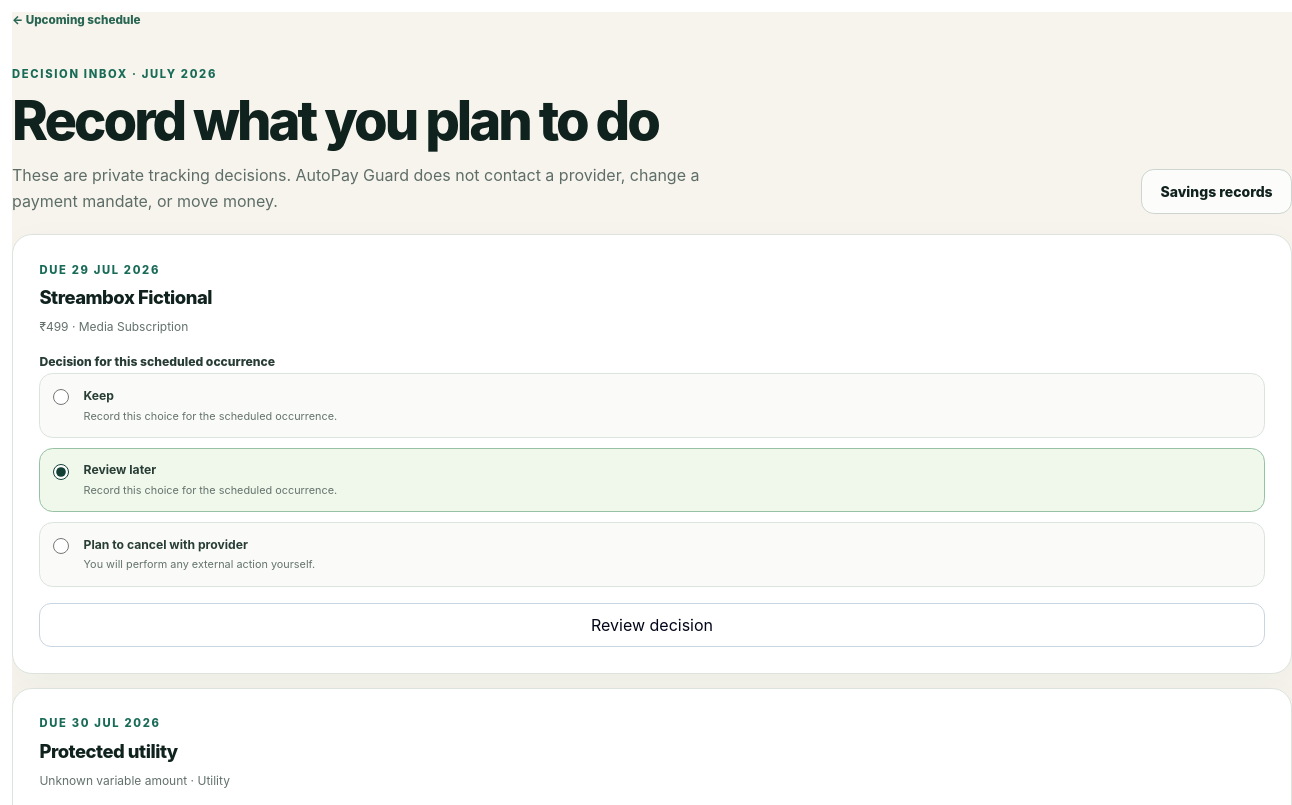
Scenario: DecisionInboxScreen › requires explicit confirmation and appends only the selected decision
expect the element "Streambox Fictional" is shown: met, box [12,234,1291,674]
Click the radio button labelled "Plan to cancel with provider" at (61, 546), box [53,538,69,554]
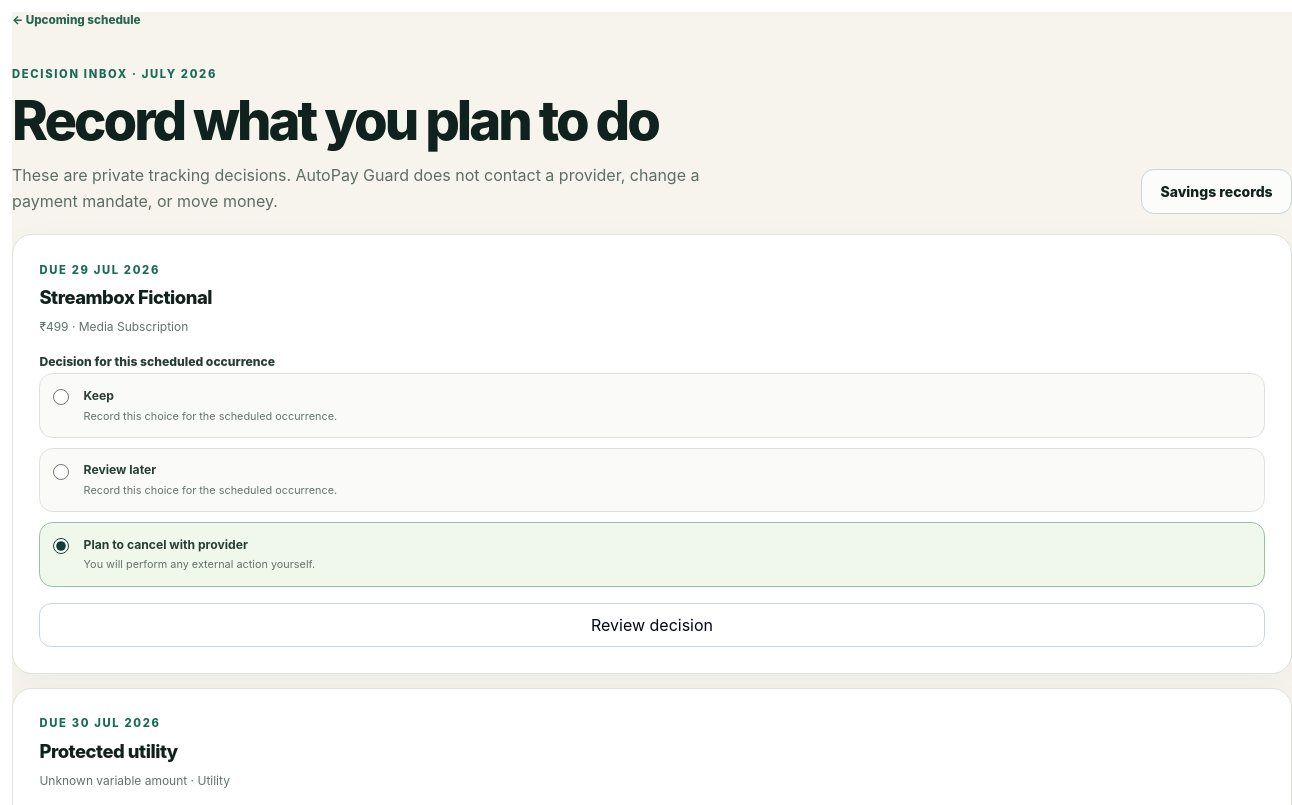
Click the button "Review decision" at (652, 625), box [39,603,1265,647]
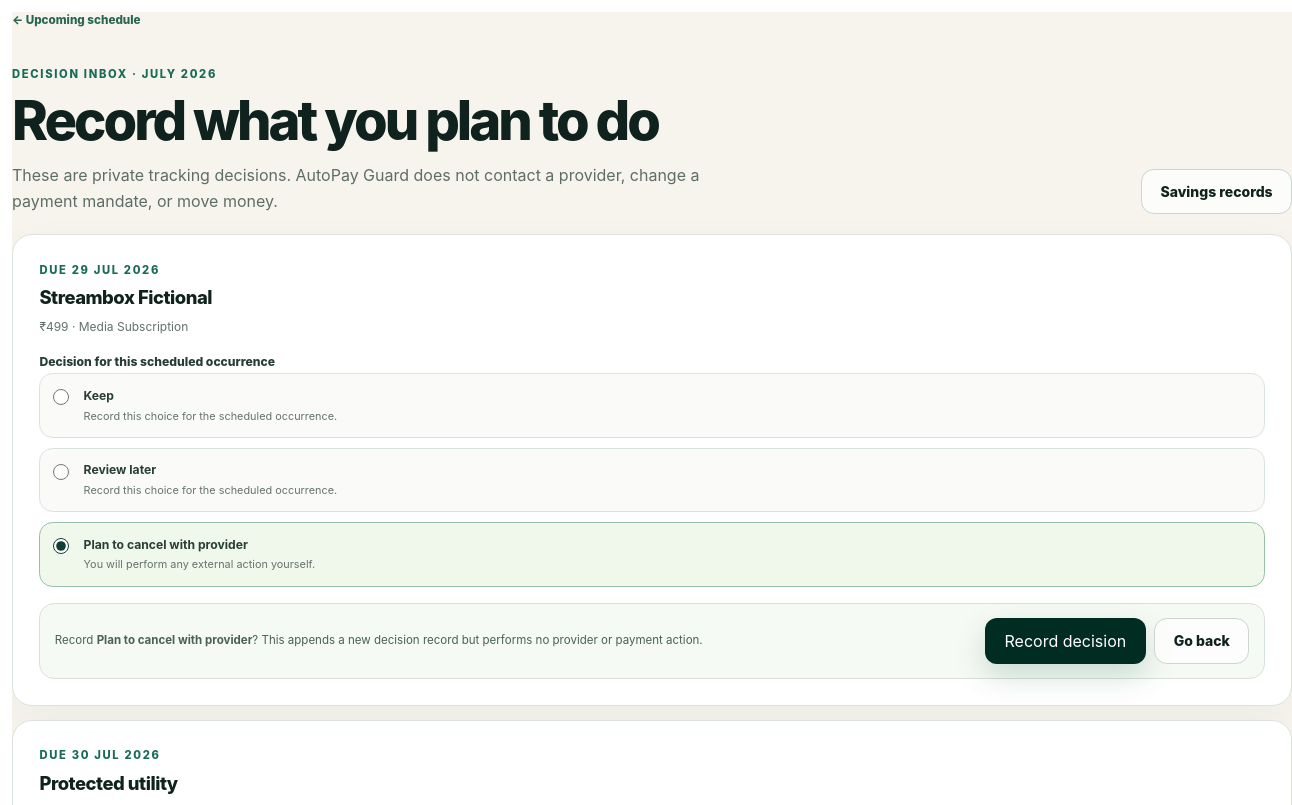
expect the text "This appends a new decision record" is shown: met, box [252,633,703,647]
Click the button "Record decision" at (1065, 641), box [984,618,1146,664]
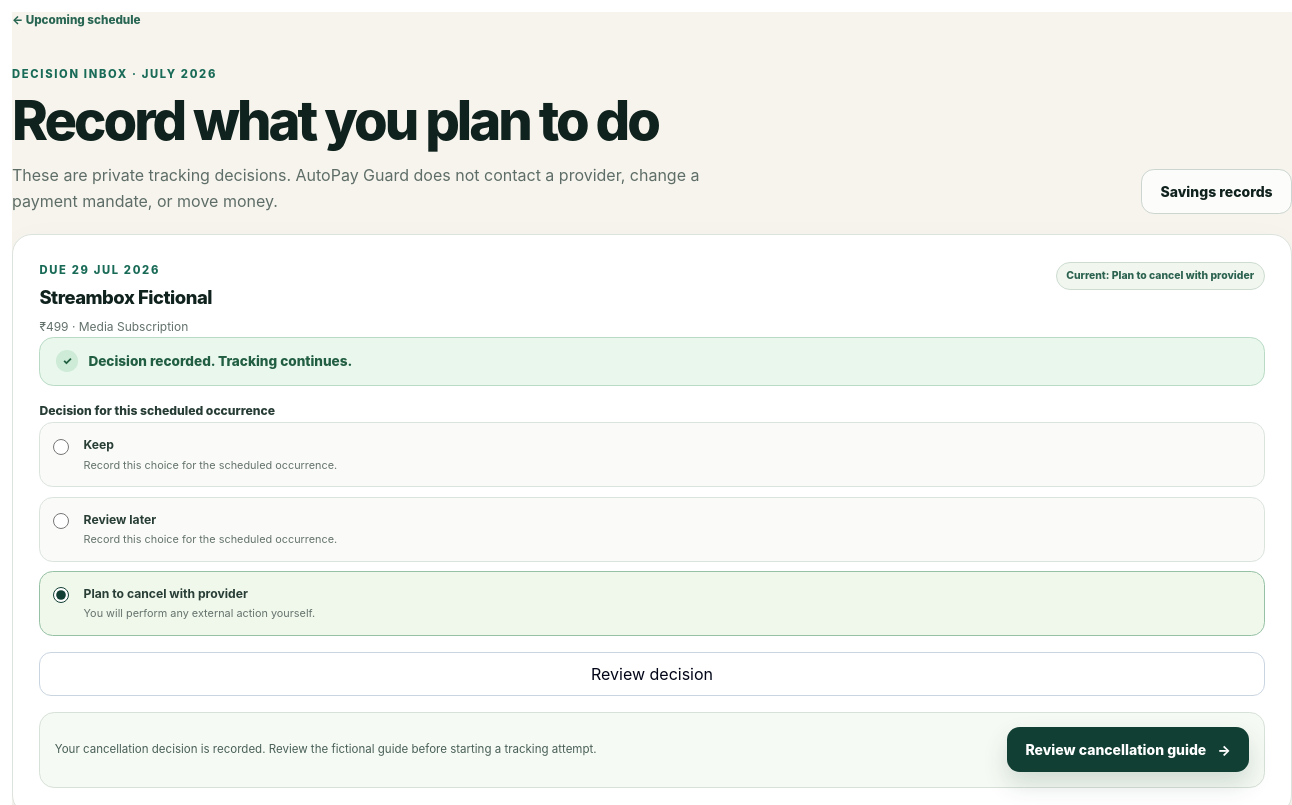
expect the text "Decision recorded. Tracking continues." is shown: met, box [88,353,352,369]
